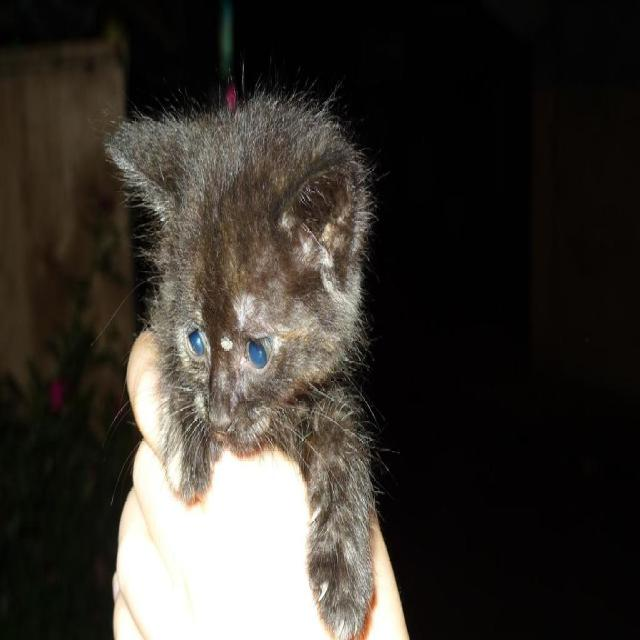Cat: (95, 68, 378, 638)
